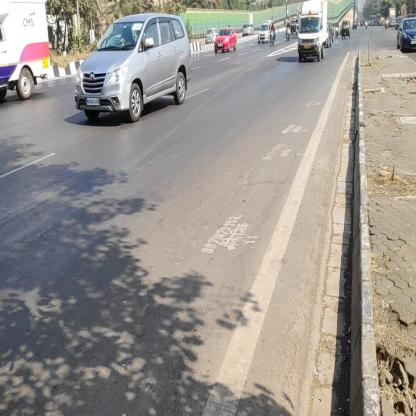license: (86, 95, 99, 106)
